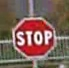stop: (11, 15, 56, 58)
